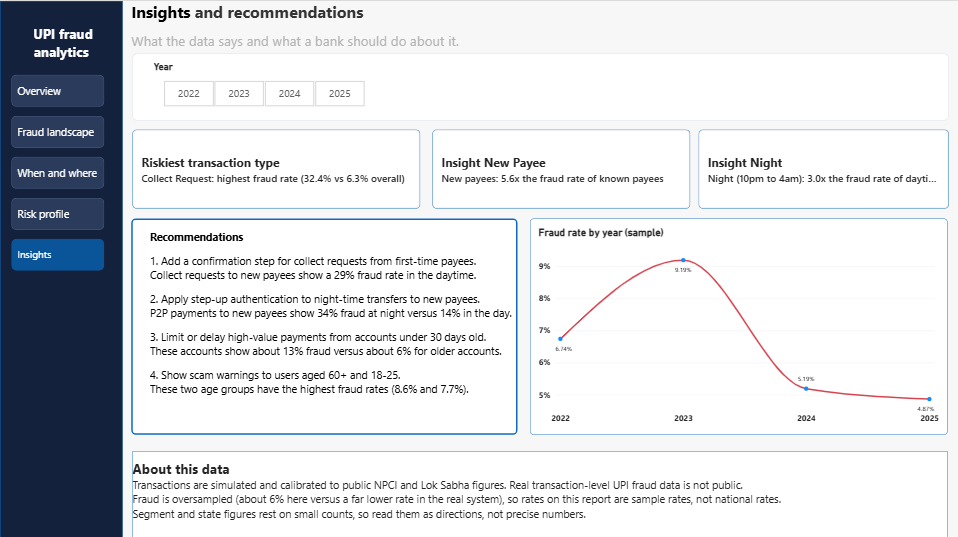

The dashboard page shown, as its layout file describes it:
{"tool":"powerbi","page":{"name":"Insights","canvas":[1920,1080],"ordinal":4},"visuals":[{"type":"textbox","box":[263,0,1146,102.6],"z":0},{"type":"shape","box":[0,0,244.9,1080.6],"z":1000},{"type":"textbox","box":[0,47.3,244.9,72],"z":2000},{"type":"pageNavigator","box":[23.5,147.5,186,393.4],"z":3000},{"type":"shape","box":[263.8,103.8,1632.4,134.1],"z":4000},{"type":"slicer","title":"Year","fields":{"Values":["upi_transactions_2022_2025_clean_5k.txn_datetime.Variation.Date Hierarchy.Year"]},"box":[307,118.9,440.5,92.6],"z":5000},{"type":"shape","box":[262.5,435,772.5,432.5],"z":6000},{"type":"textbox","box":[300,457.5,742.5,365],"z":6001},{"type":"shape","box":[265,900,1630,180],"z":6002},{"type":"textbox","box":[265,917.5,1630,137.5],"z":6003},{"type":"cardVisual","title":"Riskiest transaction type","fields":{"Data":["Measures (2).Insight Top Type"]},"box":[265,257.5,575,157.5],"z":6005},{"type":"cardVisual","title":"Riskiest transaction type","fields":{"Data":["Measures (2).Insight New Payee"]},"box":[865,257.5,515,157.5],"z":6006},{"type":"cardVisual","title":"Riskiest transaction type","fields":{"Data":["Measures (2).Insight Night"]},"box":[1397.5,257.5,500,157.5],"z":6007},{"type":"lineChart","title":"Fraud rate by year (sample)","fields":{"Category":["upi_transactions_2022_2025_clean_5k.txn_datetime.Variation.Date Hierarchy.Year"],"Y":["Measures (2).Fraud Rate %"]},"box":[1060,435,835,432.5],"z":6008}]}

Visuals, with their boxes on the page's 1920x1080 design canvas (x1, y1, x2, y2). These are canvas units, not pixel positions in the 958x537 screenshot, which may show the page scaled, cropped or inside an application window:
textbox: <bbox>263, 0, 1409, 103</bbox>
shape: <bbox>0, 0, 245, 1081</bbox>
textbox: <bbox>0, 47, 245, 119</bbox>
pageNavigator: <bbox>24, 148, 210, 541</bbox>
shape: <bbox>264, 104, 1896, 238</bbox>
"Year" slicer: <bbox>307, 119, 748, 212</bbox>
shape: <bbox>262, 435, 1035, 868</bbox>
textbox: <bbox>300, 458, 1042, 822</bbox>
shape: <bbox>265, 900, 1895, 1080</bbox>
textbox: <bbox>265, 918, 1895, 1055</bbox>
"Riskiest transaction type" cardVisual: <bbox>265, 258, 840, 415</bbox>
"Riskiest transaction type" cardVisual: <bbox>865, 258, 1380, 415</bbox>
"Riskiest transaction type" cardVisual: <bbox>1398, 258, 1898, 415</bbox>
"Fraud rate by year (sample)" lineChart: <bbox>1060, 435, 1895, 868</bbox>
